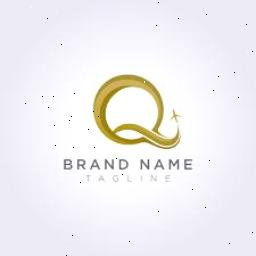q: (92, 70, 188, 156)
